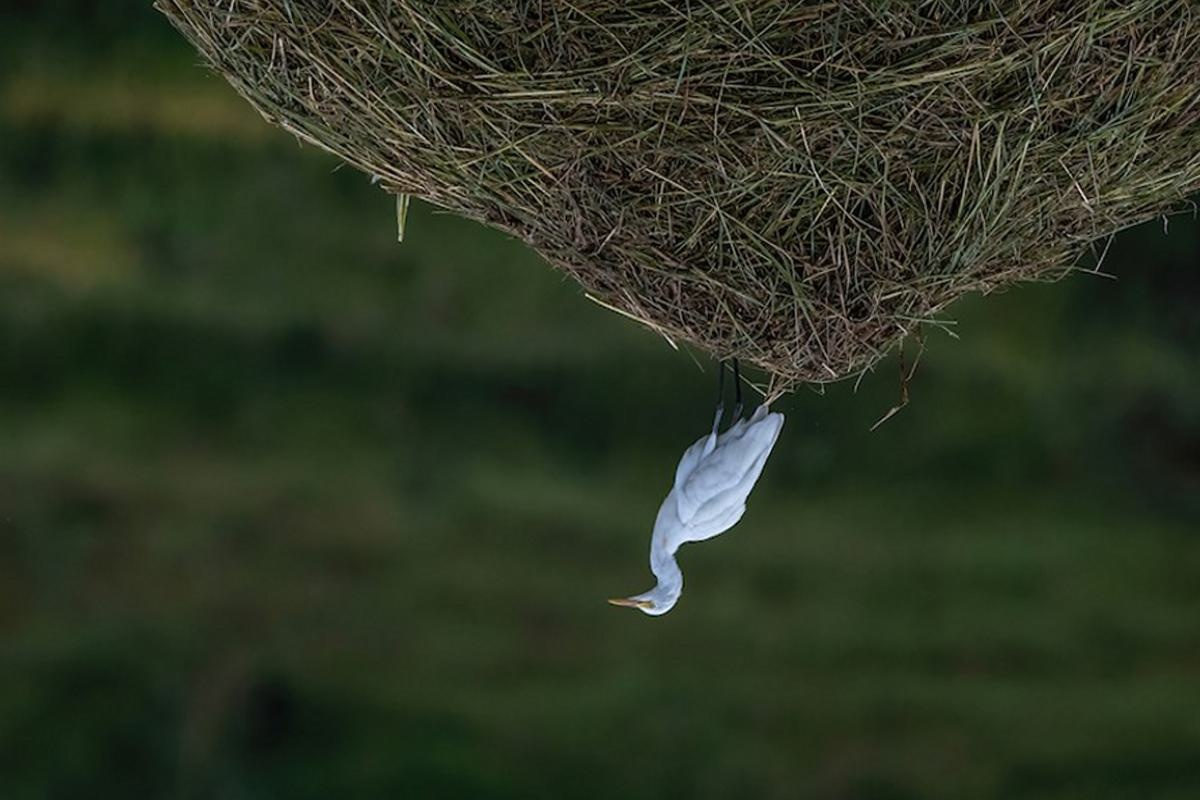egret: (609, 319, 801, 624)
